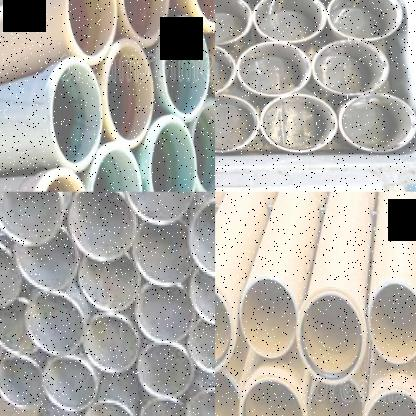pipe: (296, 287, 367, 385), (67, 192, 139, 263), (52, 62, 101, 165), (259, 93, 339, 154), (240, 274, 298, 358), (338, 93, 416, 154), (106, 43, 153, 144), (130, 218, 196, 289), (311, 40, 391, 96), (13, 226, 80, 292), (236, 41, 312, 97), (164, 21, 208, 116), (367, 279, 416, 363), (24, 290, 86, 354), (135, 338, 197, 401), (78, 252, 142, 312), (132, 284, 198, 342), (82, 310, 140, 374), (42, 352, 102, 412), (0, 192, 65, 247), (252, 0, 326, 44), (150, 120, 195, 192), (327, 0, 404, 42), (238, 373, 308, 416), (67, 0, 117, 59), (120, 192, 199, 227), (215, 94, 261, 154), (0, 352, 46, 412), (0, 296, 44, 357), (184, 194, 215, 278), (308, 377, 366, 416), (91, 147, 141, 192), (215, 277, 237, 375), (193, 102, 215, 192), (185, 266, 215, 329), (122, 0, 167, 41), (215, 0, 253, 45), (361, 385, 416, 416), (0, 240, 23, 309), (189, 324, 215, 376), (215, 369, 241, 416), (138, 393, 191, 416), (36, 171, 92, 192), (215, 42, 235, 98), (81, 397, 138, 416), (187, 384, 215, 416)
